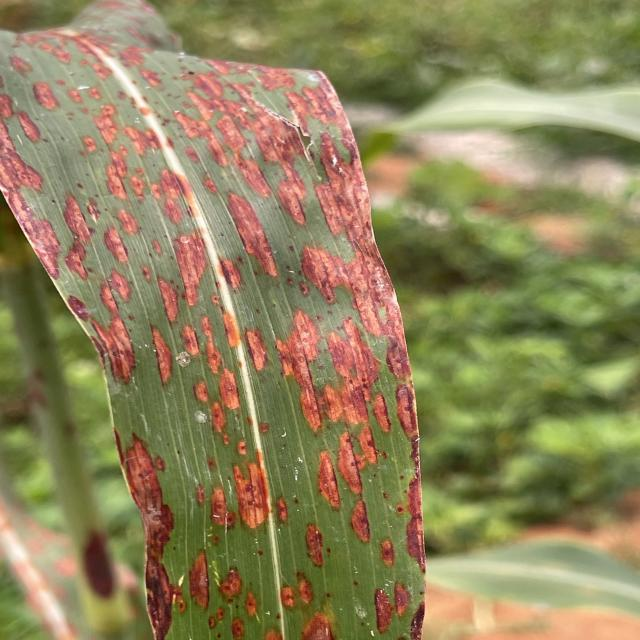millet_rust: (0, 0, 425, 640)
